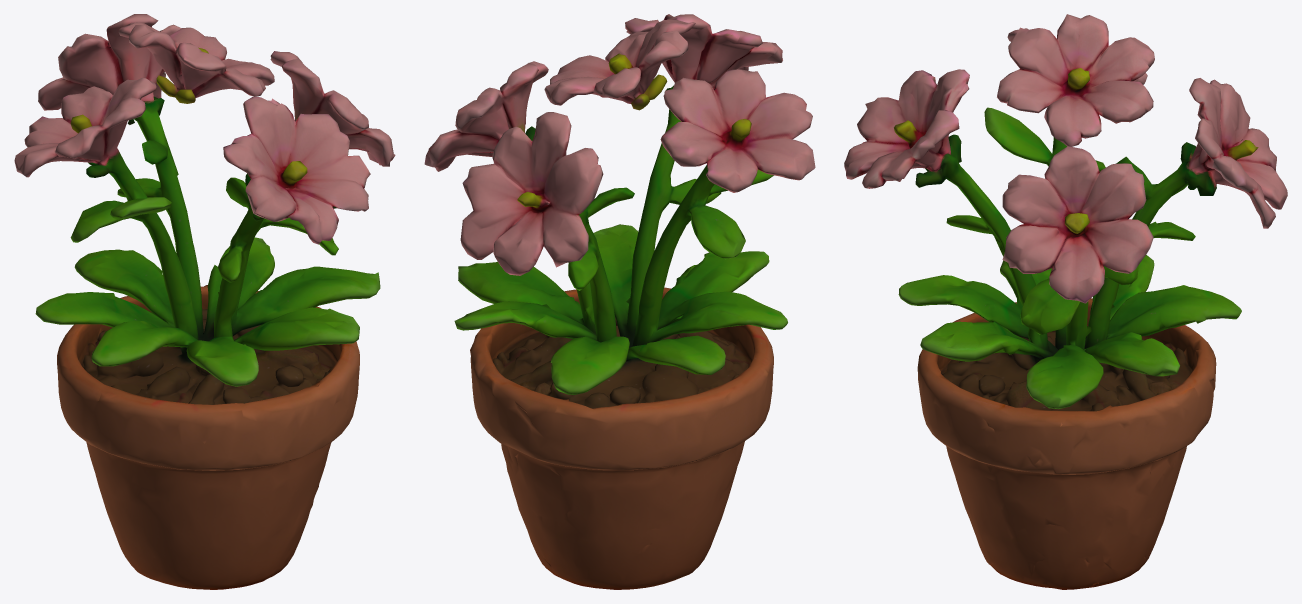
The picture shows the model from 3 angles, left to right: view 1: azimuth 30°, elevation 25°; view 2: azimuth 150°, elevation 25°; view 3: azimuth 270°, elevation 25°; orthographic projection. The views are drawn at different scales.
Visible parts, largest first — view 1: tripo_node_f64b6fb7-dec9-46f0-b528-0a296a4f6dad; view 2: tripo_node_f64b6fb7-dec9-46f0-b528-0a296a4f6dad; view 3: tripo_node_f64b6fb7-dec9-46f0-b528-0a296a4f6dad.
Part boxes in pixels (<box>): tripo_node_f64b6fb7-dec9-46f0-b528-0a296a4f6dad: <box>14,14,395,589</box>; tripo_node_f64b6fb7-dec9-46f0-b528-0a296a4f6dad: <box>424,14,815,589</box>; tripo_node_f64b6fb7-dec9-46f0-b528-0a296a4f6dad: <box>844,14,1287,589</box>.
Bounding box in the file's own units: 0.7182 × 1 × 0.7756.
Materials: 1 (1 with a texture image).
